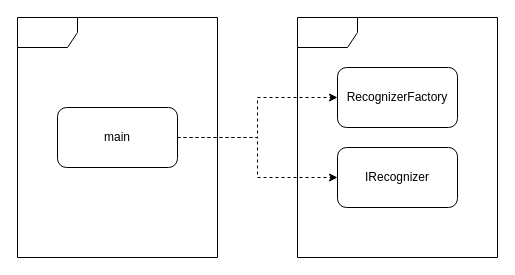
Image size: 515x275. Some labels were removed from this diagram. Each missing label, with the box of its shape:
app: (16, 16, 218, 258)
lib: (296, 16, 498, 258)
